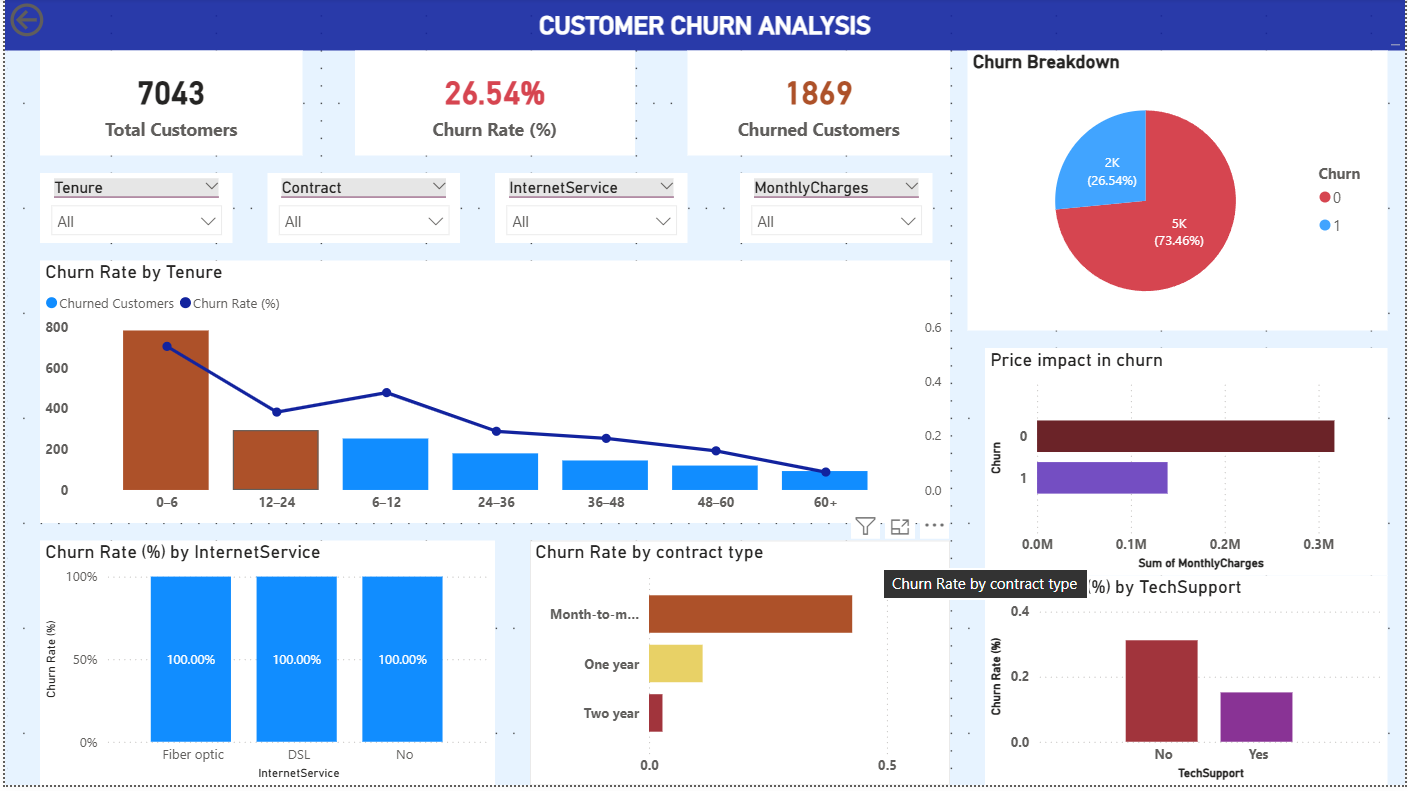

This screenshot's page, from the dashboard's own definition file:
{"tool":"powerbi","page":{"name":"Page 1","canvas":[1280,720],"ordinal":0},"visuals":[{"type":"textbox","title":"CUSTOMER CHURN ANALYSIS","box":[0,0,1280,48],"z":0},{"type":"card","fields":{"Values":["churn dataset.Total Customers"]},"box":[32,48,240,96],"z":1000},{"type":"card","fields":{"Values":["churn dataset.Churn Rate (%)"]},"box":[320,48,256,96],"z":2000},{"type":"card","fields":{"Values":["churn dataset.Churned Customers"]},"box":[624,48,240,96],"z":3000},{"type":"pieChart","title":"Churn Breakdown","fields":{"Y":["churn dataset.Total Customers"],"Category":["churn dataset.Churn"]},"box":[880,48,384,256],"z":4000},{"type":"slicer","fields":{"Values":["churn dataset.tenure"]},"box":[32,160,176,64],"z":5000},{"type":"slicer","fields":{"Values":["churn dataset.Contract"]},"box":[240,160,176,64],"z":6000},{"type":"slicer","fields":{"Values":["churn dataset.MonthlyCharges"]},"box":[672,160,176,64],"z":7000},{"type":"lineClusteredColumnComboChart","title":"Churn Rate by Tenure","fields":{"Category":["churn dataset.Tenure Group"],"Y":["churn dataset.Churned Customers"],"Y2":["churn dataset.Churn Rate (%)"]},"box":[32,240,832,240],"z":8000},{"type":"hundredPercentStackedColumnChart","fields":{"Category":["churn dataset.InternetService"],"Y":["churn dataset.Churn Rate (%)"]},"box":[32,496,416,224],"z":9000},{"type":"clusteredBarChart","title":"Churn Rate by contract type","fields":{"Category":["churn dataset.Contract"],"Y":["churn dataset.Churn Rate (%)"]},"box":[480,496,384,224],"z":10000},{"type":"actionButton","box":[0,0,100,40],"z":11000},{"type":"slicer","fields":{"Values":["churn dataset.InternetService"]},"box":[448,160,176,64],"z":12000},{"type":"clusteredBarChart","title":"Price impact in churn","fields":{"Category":["churn dataset.Churn"],"Y":["Sum(churn dataset.MonthlyCharges)"]},"box":[896,320,368,208],"z":13000},{"type":"clusteredColumnChart","fields":{"Category":["churn dataset.TechSupport"],"Y":["churn dataset.Churn Rate (%)"]},"box":[896,528,368,192],"z":14000}]}

Visuals, with their boxes in screenshot pixels (x1, y1, x2, y2), scaled from the page's 1280x720 canvas onto the 1408x791 screenshot:
"CUSTOMER CHURN ANALYSIS" textbox: (left=0, top=0, right=1407, bottom=53)
card - churn dataset.Total Customers: (left=35, top=53, right=299, bottom=158)
card - churn dataset.Churn Rate (%): (left=352, top=53, right=634, bottom=158)
card - churn dataset.Churned Customers: (left=686, top=53, right=950, bottom=158)
"Churn Breakdown" pieChart: (left=968, top=53, right=1390, bottom=334)
slicer - churn dataset.tenure: (left=35, top=176, right=229, bottom=246)
slicer - churn dataset.Contract: (left=264, top=176, right=458, bottom=246)
slicer - churn dataset.MonthlyCharges: (left=739, top=176, right=933, bottom=246)
"Churn Rate by Tenure" lineClusteredColumnComboChart: (left=35, top=264, right=950, bottom=527)
hundredPercentStackedColumnChart - churn dataset.InternetService x churn dataset.Churn Rate (%): (left=35, top=545, right=493, bottom=790)
"Churn Rate by contract type" clusteredBarChart: (left=528, top=545, right=950, bottom=790)
actionButton: (left=0, top=0, right=110, bottom=44)
slicer - churn dataset.InternetService: (left=493, top=176, right=686, bottom=246)
"Price impact in churn" clusteredBarChart: (left=986, top=352, right=1390, bottom=580)
clusteredColumnChart - churn dataset.TechSupport x churn dataset.Churn Rate (%): (left=986, top=580, right=1390, bottom=790)
